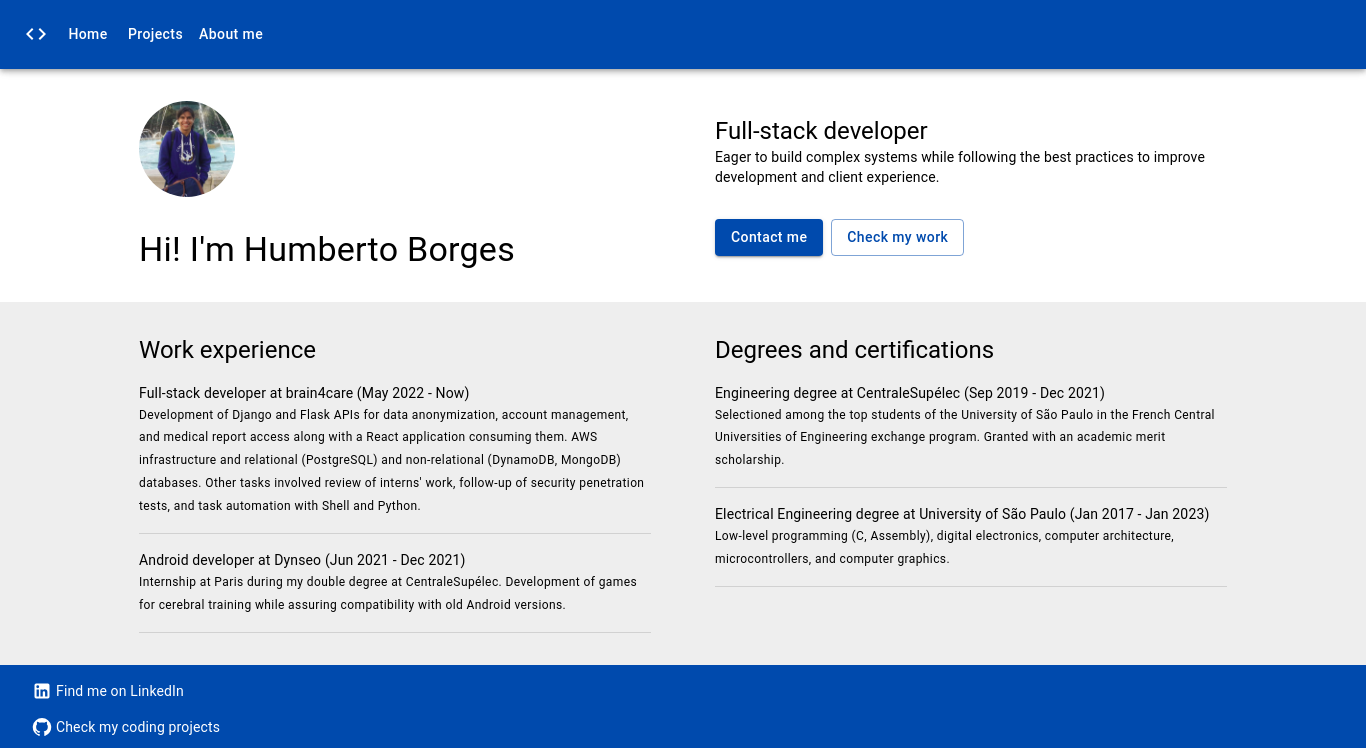
Test: should redirect to the projects page when clicking on the 'projects' menu item
This screenshot has width=1366, height=748.
Click the button with test id "web-menu-item-1": coordinates (156, 35) [120, 16, 191, 53]
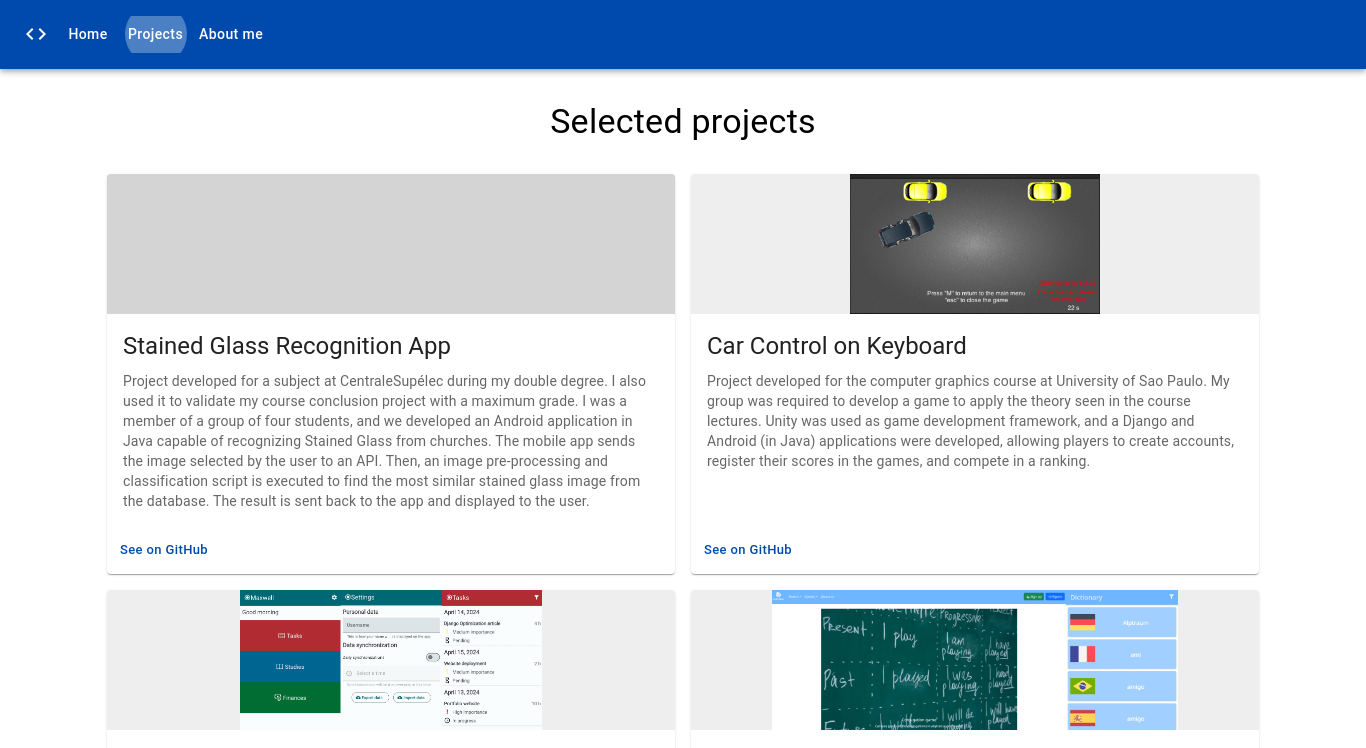
Result: the heading with test id "projects-title" reads "Selected projects" at [550, 101, 816, 141]
Result: the heading "Selected projects" is shown at [550, 100, 816, 140]
